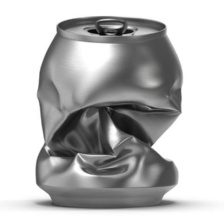can: (27, 12, 190, 212)
